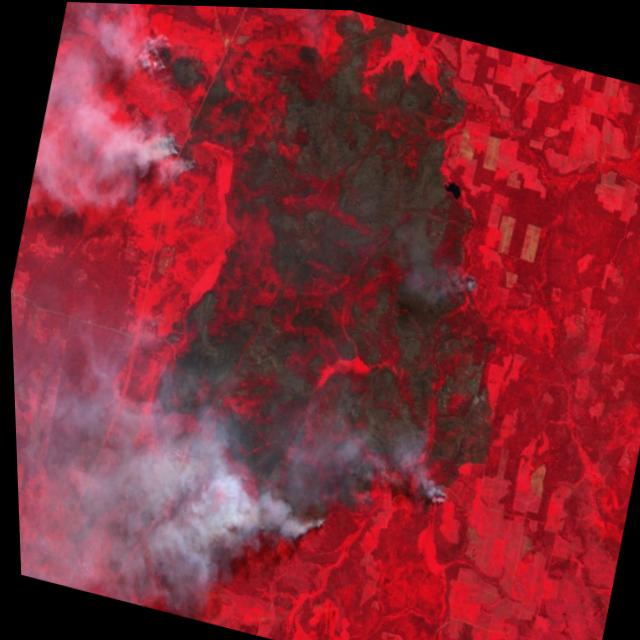fire: (147, 401, 454, 587), (115, 34, 223, 176), (449, 257, 484, 305)
